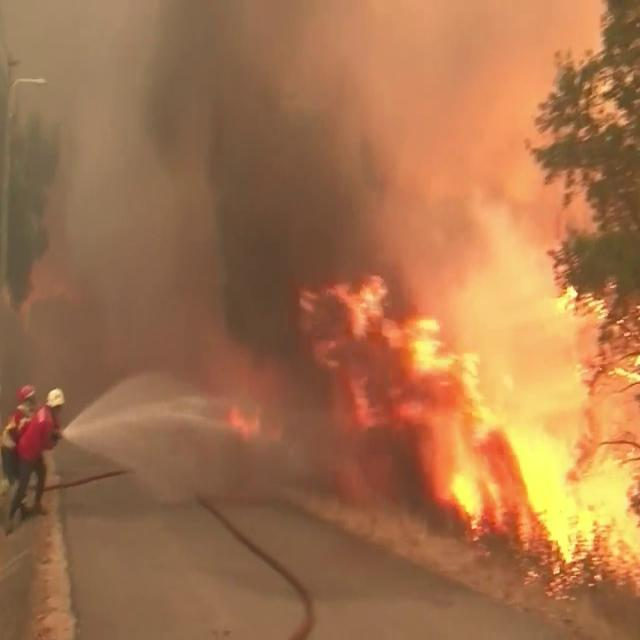Fire: (340, 248, 640, 598)
Smoke: (3, 1, 630, 352)
